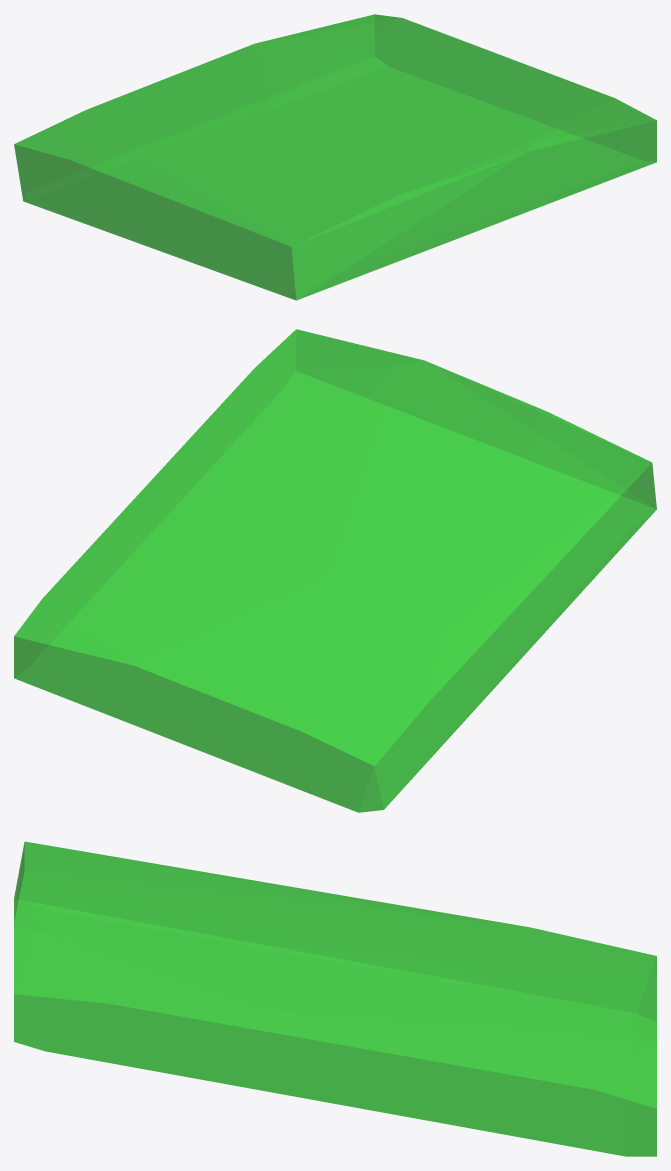
The picture shows the model from 3 angles, top to bottom: view 1: azimuth 30°, elevation 25°; view 2: azimuth 150°, elevation 25°; view 3: azimuth 270°, elevation 25°; orthographic projection. The views are drawn at different scales.
Parts seen in each view (by area): view 1: Shape_IndexedFaceSet.034_Shape_IndexedFaceSet.632; view 2: Shape_IndexedFaceSet.034_Shape_IndexedFaceSet.632; view 3: Shape_IndexedFaceSet.034_Shape_IndexedFaceSet.632.
Boxes of the visible parts, x1,y1,x2,y2 form: Shape_IndexedFaceSet.034_Shape_IndexedFaceSet.632: (14, 14, 656, 300); Shape_IndexedFaceSet.034_Shape_IndexedFaceSet.632: (14, 329, 656, 812); Shape_IndexedFaceSet.034_Shape_IndexedFaceSet.632: (14, 841, 656, 1156).
Bounding box in the file's own units: 0.0838 × 0.0428 × 0.1136.
